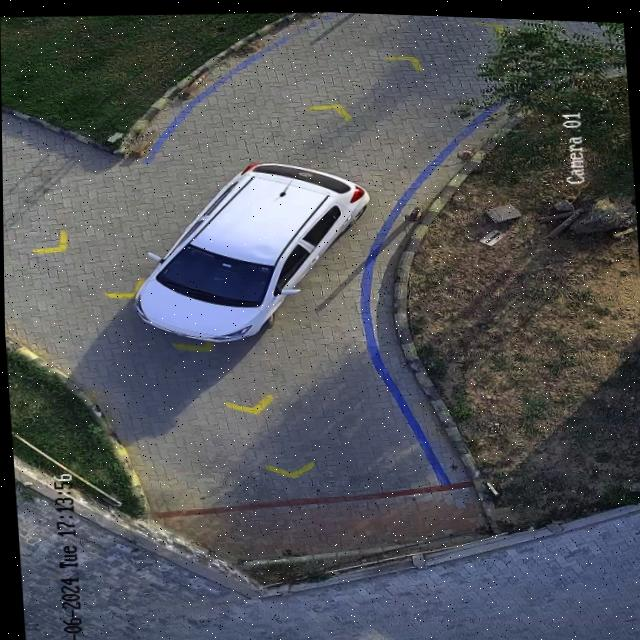car: (136, 160, 369, 339)
